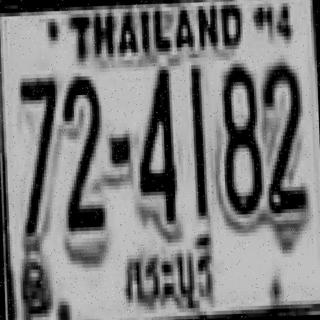N01: (188, 63, 206, 218)
N02: (262, 56, 306, 215), (59, 74, 103, 230)
N04: (134, 64, 176, 224)
N07: (18, 74, 60, 233), (18, 74, 58, 207), (18, 74, 58, 182)
N08: (218, 61, 260, 216)
P60: (117, 227, 220, 318)
